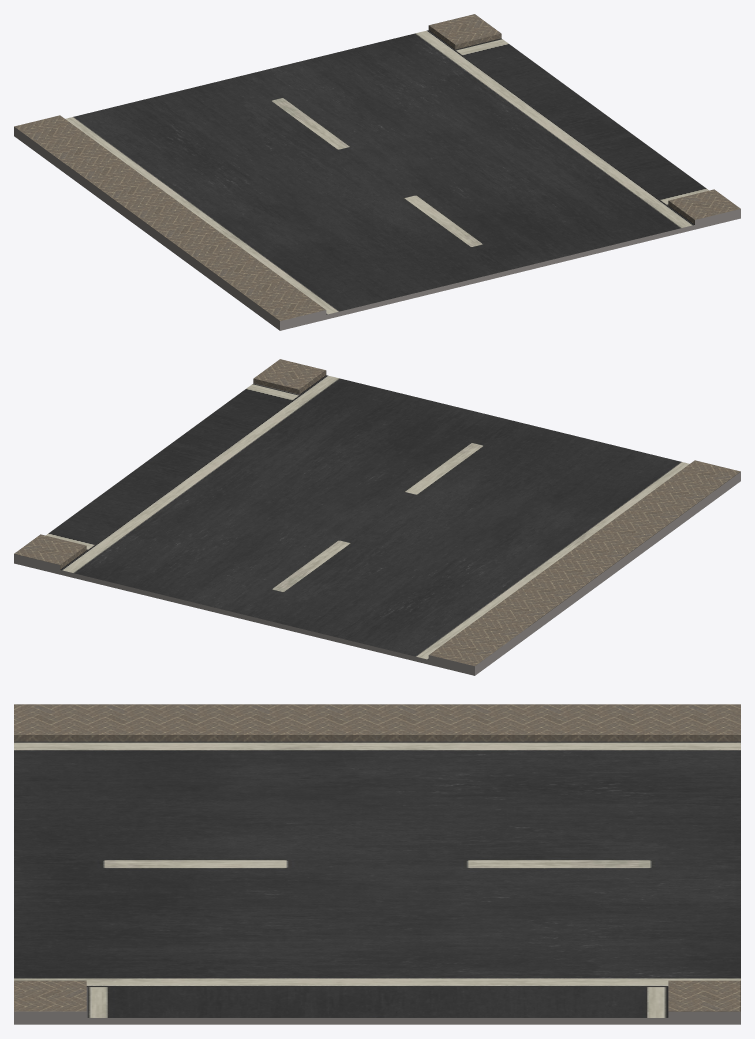
File: road_3_way_junction.glb
The picture shows the model from 3 angles, top to bottom: view 1: azimuth 30°, elevation 25°; view 2: azimuth 150°, elevation 25°; view 3: azimuth 270°, elevation 25°; orthographic projection. The views are drawn at different scales.
Visible parts, largest first — view 1: Cube; view 2: Cube; view 3: Cube.
Boxes of the visible parts, left/top/right/bottom form: Cube: left=14, top=14, right=740, bottom=330; Cube: left=14, top=359, right=740, bottom=675; Cube: left=14, top=704, right=740, bottom=1024.
Size of the model in its own units: 15 by 0.3 by 15.
Materials: 1 (1 with a texture image).
